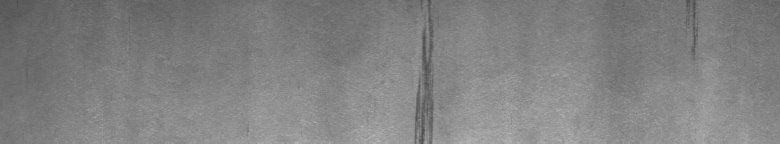hd: (411, 4, 441, 136)
